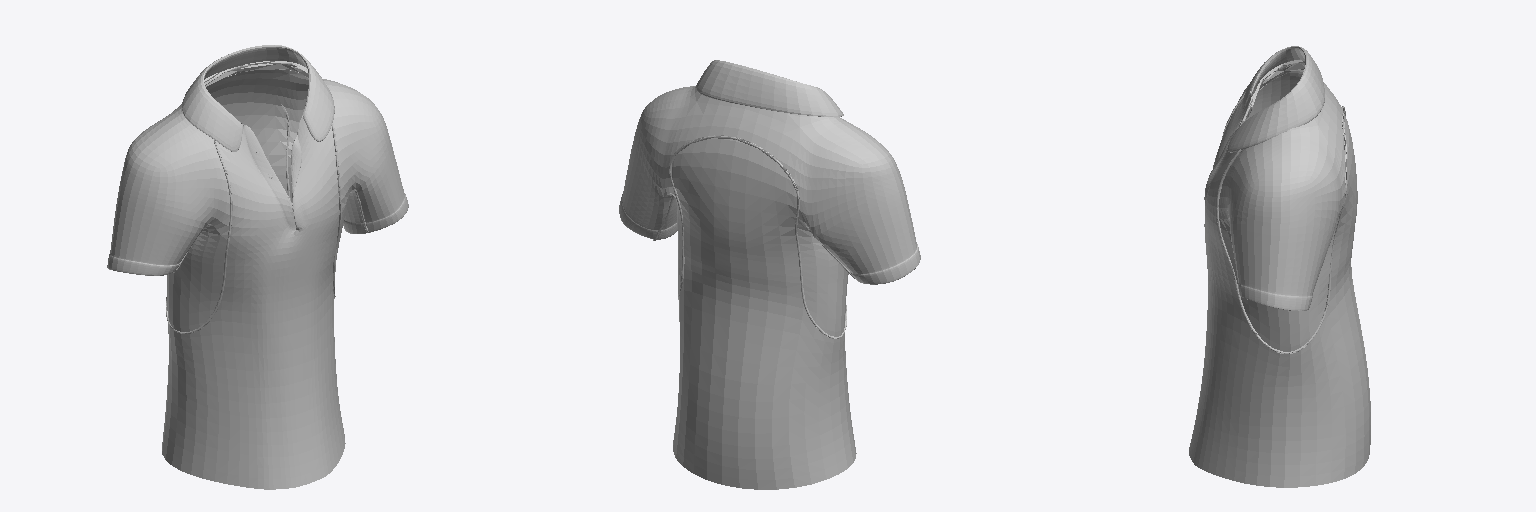
Rendered from whitetshirt.obj.
3 renders of one model, left to right at view 1: azimuth 30°, elevation 25°; view 2: azimuth 150°, elevation 25°; view 3: azimuth 270°, elevation 25°, orthographic.
Parts seen in each view (by area): view 1: Box001; view 2: Box001; view 3: Box001.
Boxes of the visible parts, x1,y1,x2,y2 form: Box001: [107, 45, 408, 489]; Box001: [619, 60, 920, 489]; Box001: [1189, 46, 1370, 487].
Bounding box in the file's own units: 6.96 × 8.89 × 3.73.